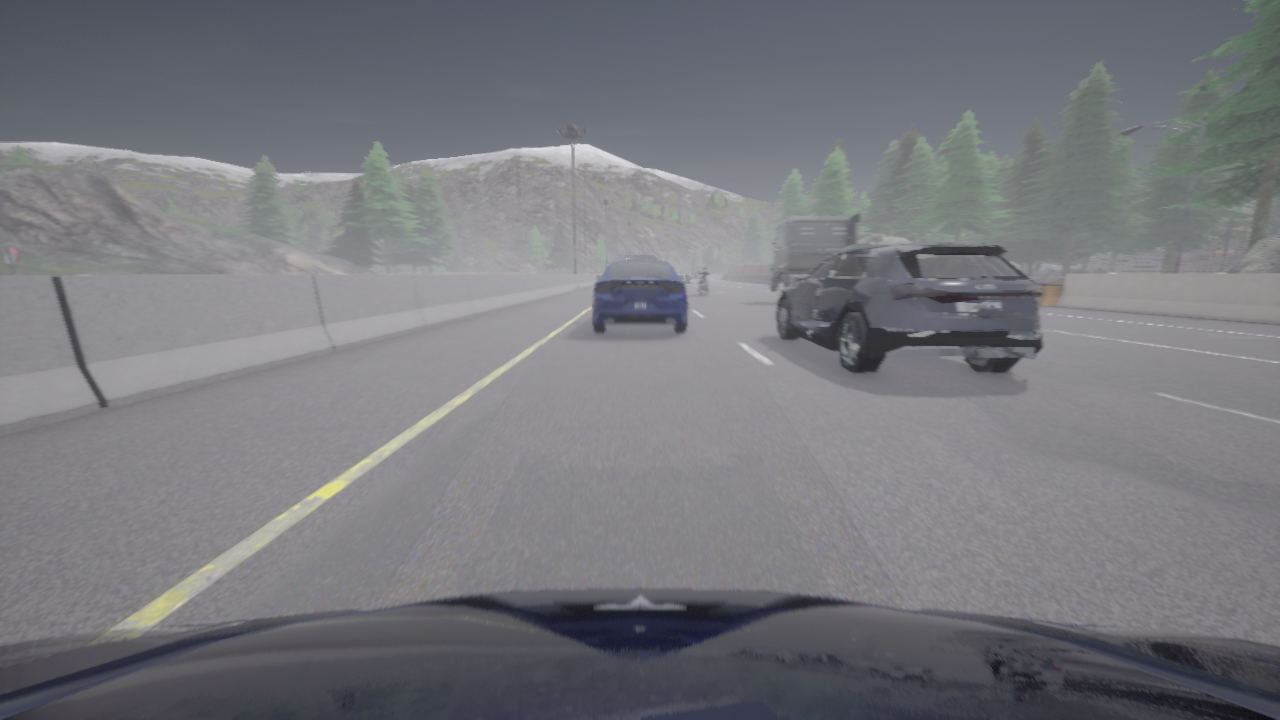cyclist: (0, 588, 1279, 719), (775, 240, 1043, 373), (768, 213, 860, 295), (592, 259, 687, 331), (686, 268, 701, 282), (700, 276, 709, 295), (620, 256, 659, 260)
